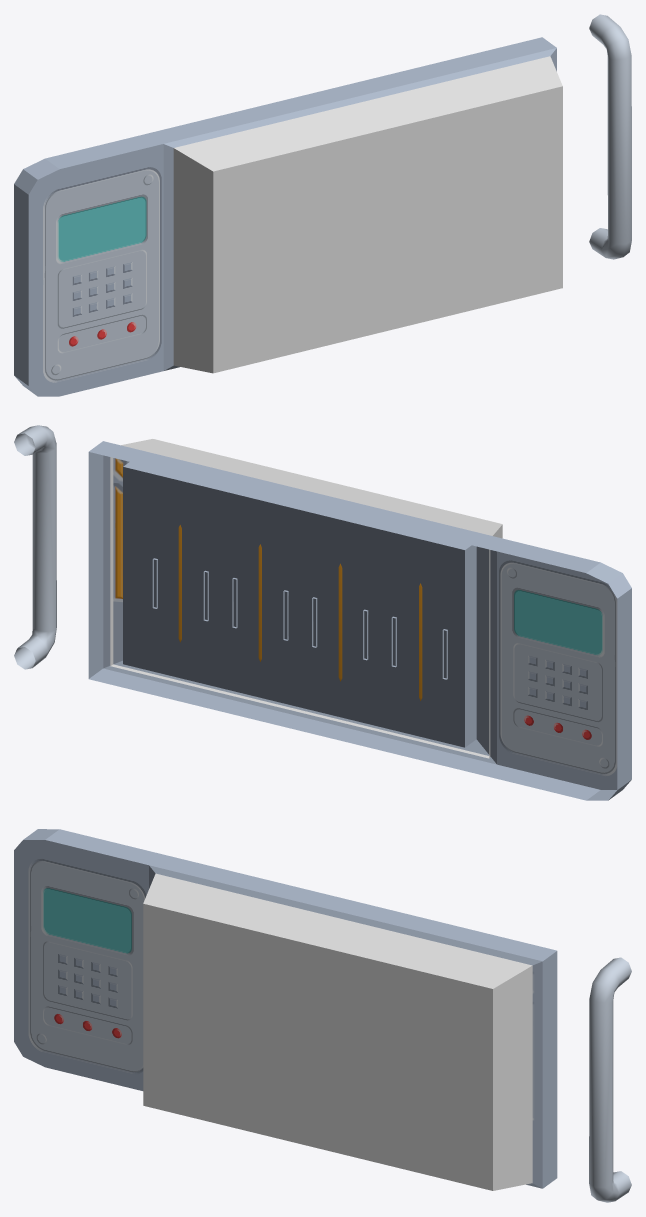
The model's file is Envi24.dae.
The picture shows the model from 3 angles, top to bottom: view 1: azimuth 30°, elevation 25°; view 2: azimuth 150°, elevation 25°; view 3: azimuth 330°, elevation 25°; orthographic projection.
Visible parts, largest first — view 1: Cube.057, Cube.056; view 2: Cube.056, Cube.057; view 3: Cube.057, Cube.056.
Boxes of the visible parts, x1,y1,x2,y2 form: Cube.057: [173, 56, 562, 373]; Cube.056: [14, 14, 631, 396]; Cube.056: [14, 425, 631, 800]; Cube.057: [110, 439, 502, 758]; Cube.057: [143, 873, 532, 1190]; Cube.056: [14, 829, 631, 1202].
Bounding box in the file's own units: 5.52 × 0.7245 × 2.08.
